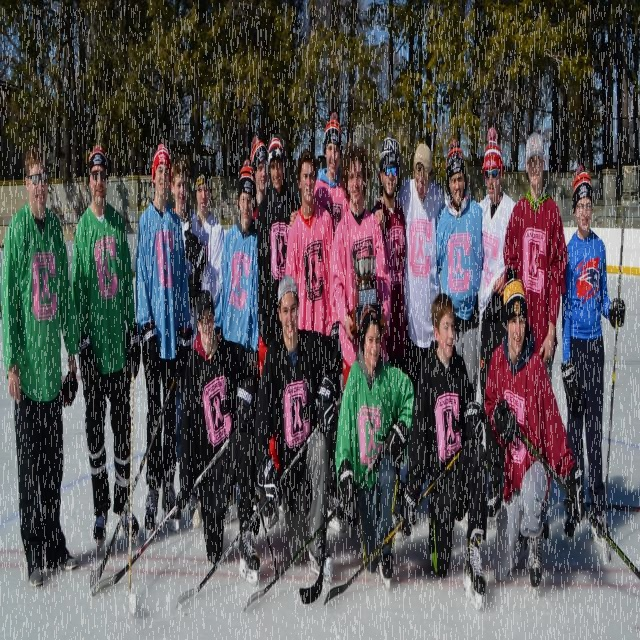pessoa: (0, 140, 82, 596), (479, 269, 588, 606), (68, 136, 144, 558), (397, 288, 493, 618), (252, 269, 344, 589), (173, 288, 266, 591), (560, 156, 628, 554), (503, 128, 566, 544), (133, 135, 196, 548), (333, 300, 415, 596), (476, 133, 518, 522), (255, 136, 302, 478), (329, 142, 392, 390), (436, 138, 486, 402), (288, 110, 385, 240), (396, 142, 446, 392), (284, 146, 338, 340), (212, 159, 262, 368), (169, 156, 198, 470), (182, 153, 224, 344), (371, 138, 406, 359), (250, 134, 269, 220)
